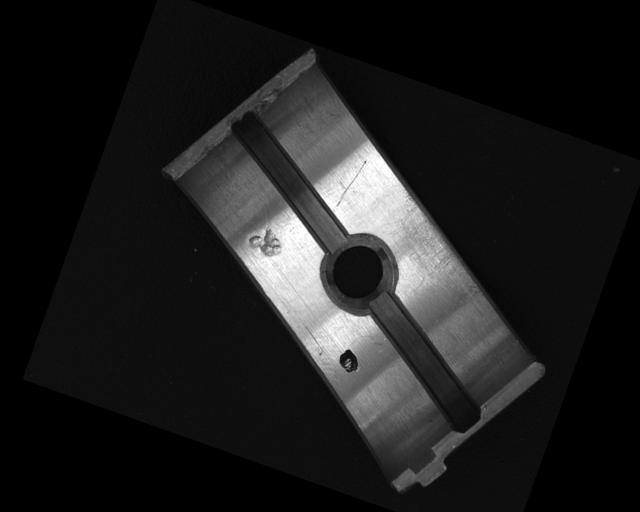blot: (335, 345, 364, 376)
bruise: (244, 220, 288, 260)
gap: (203, 106, 375, 254), (340, 289, 507, 436)
hole: (308, 223, 407, 323)
nick: (331, 155, 367, 217)
scratch: (369, 185, 516, 317)
